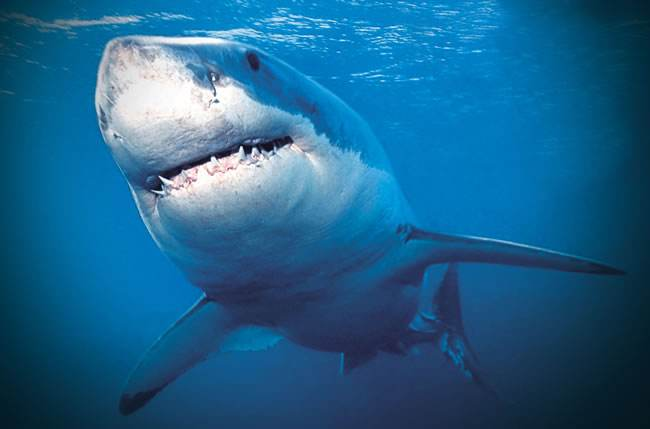shark: (93, 35, 627, 410)
